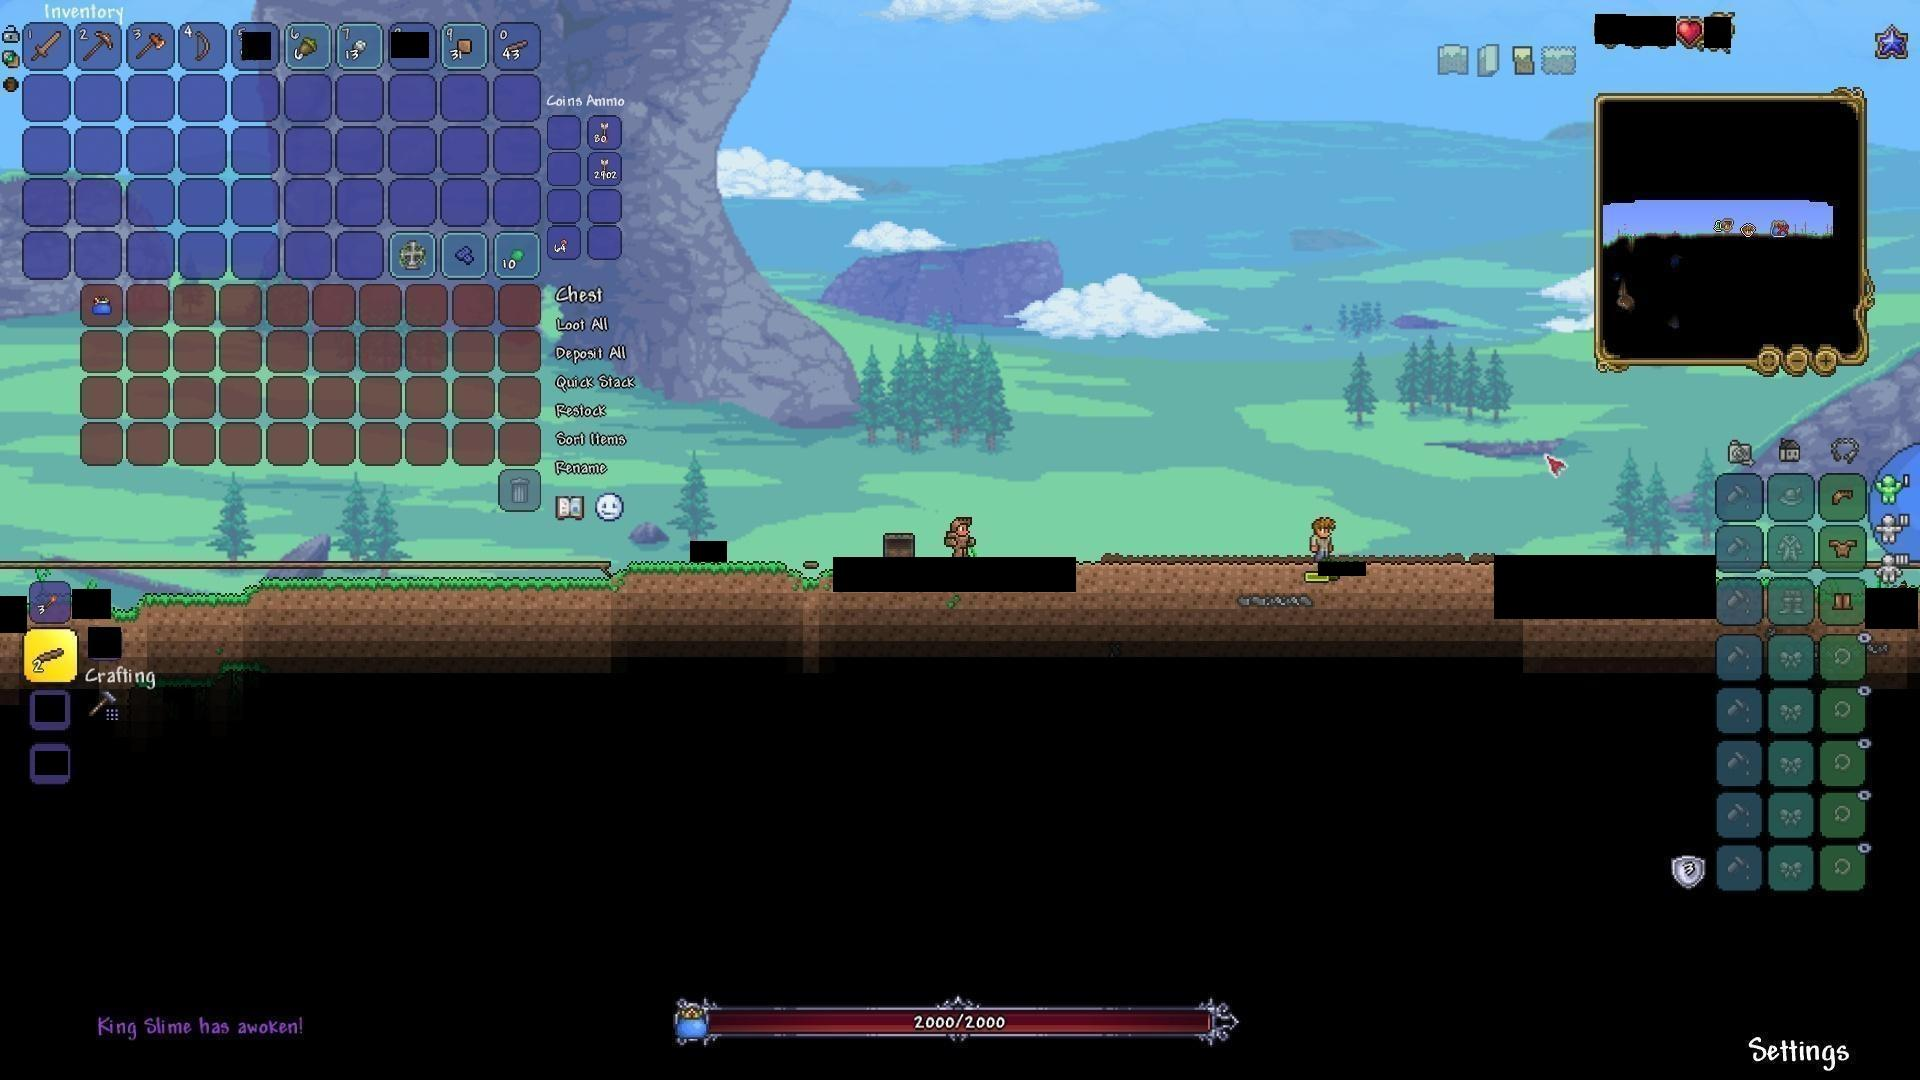breastplate: (1829, 535, 1859, 556)
dirt: (117, 568, 630, 629), (632, 560, 833, 604)
heart: (1676, 16, 1704, 47)
helmet: (1826, 483, 1859, 510)
legs: (1830, 585, 1855, 615)
